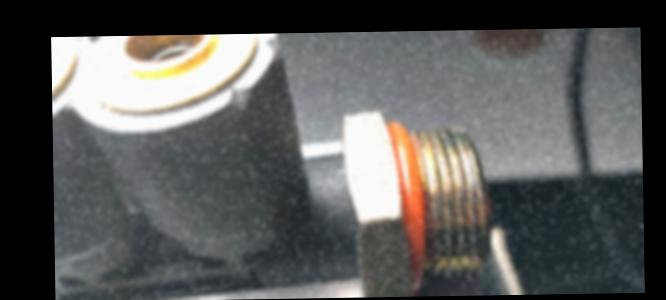bump: (227, 85, 255, 114), (262, 34, 283, 60)
white mark: (324, 165, 347, 177)
